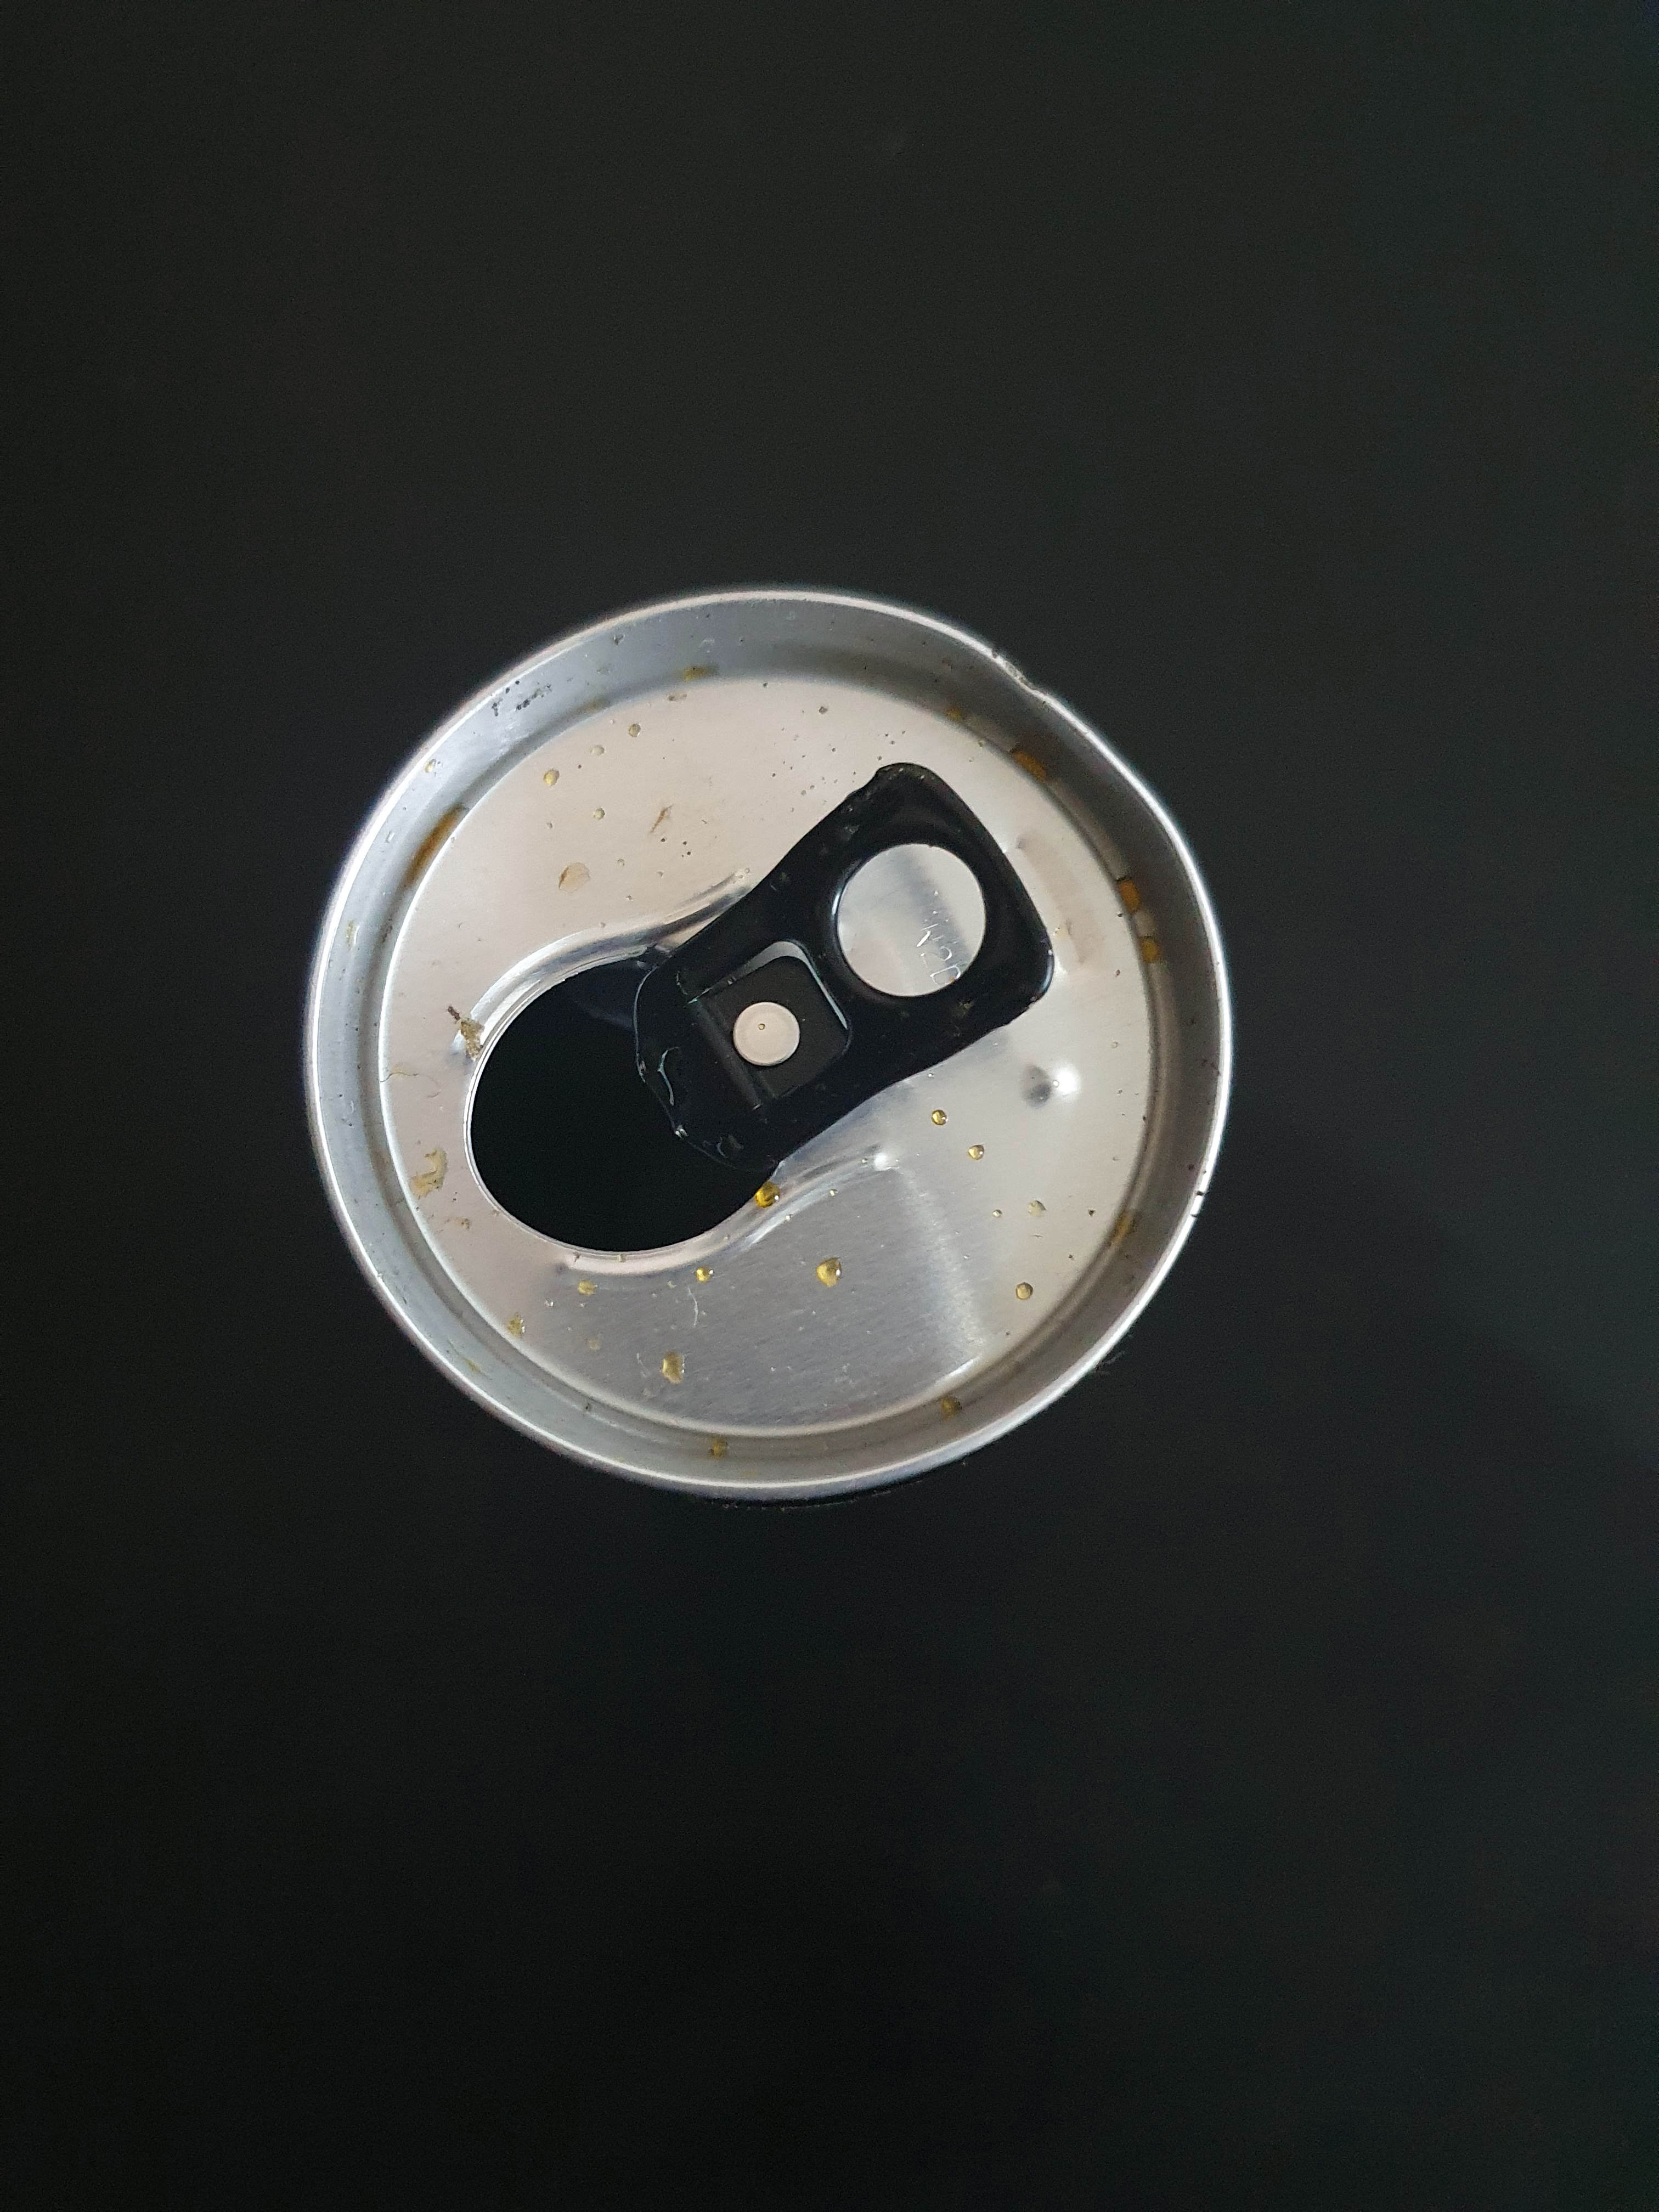metal: (275, 536, 1272, 1573)
